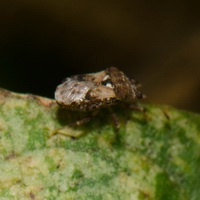insect: (55, 67, 143, 114), (55, 67, 141, 111)
